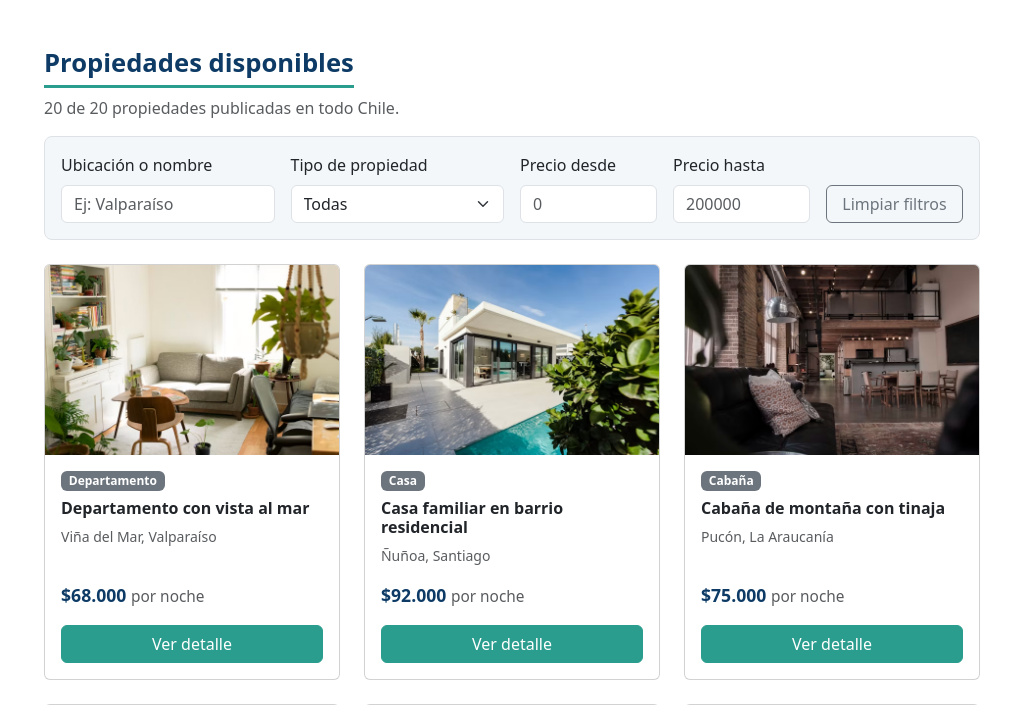
Scenario: Página Propiedades › Muestra un aviso cuando ninguna propiedad coincide, y Limpiar filtros las recupera
The width and height of the screenshot is (1024, 705).
expect the text "No hay propiedades" is not shown: met
Type "Antártica" into the search field labelled "Ubicación o nombre".
click(168, 204); type("Antártica")  # box [61,185,274,223]
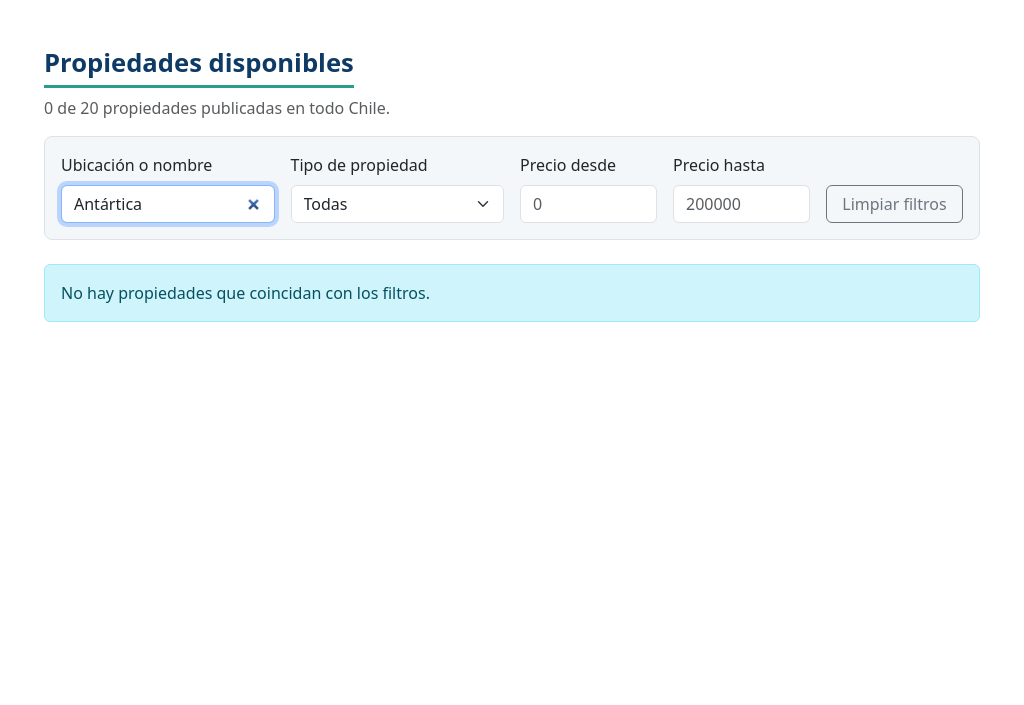
expect the text "No hay propiedades que coincidan con los filtros." is shown: met, box [44,264,980,322]
Click the button "Limpiar filtros".
click(894, 204)  # box [826,185,963,223]
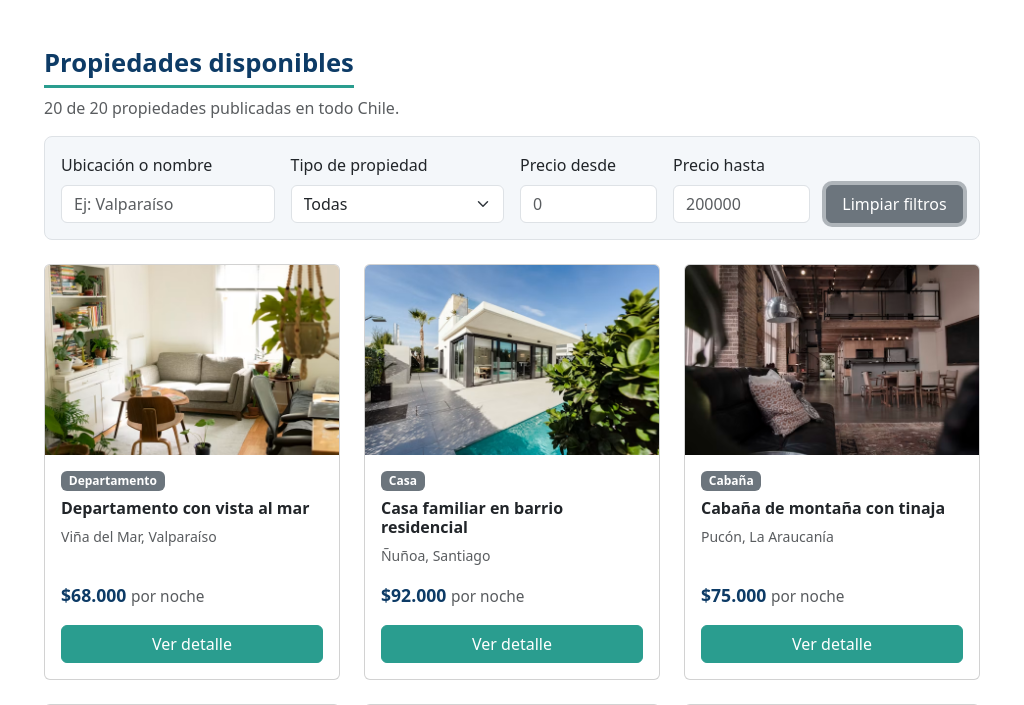
expect the number of buttons "Ver detalle" is 20: met
